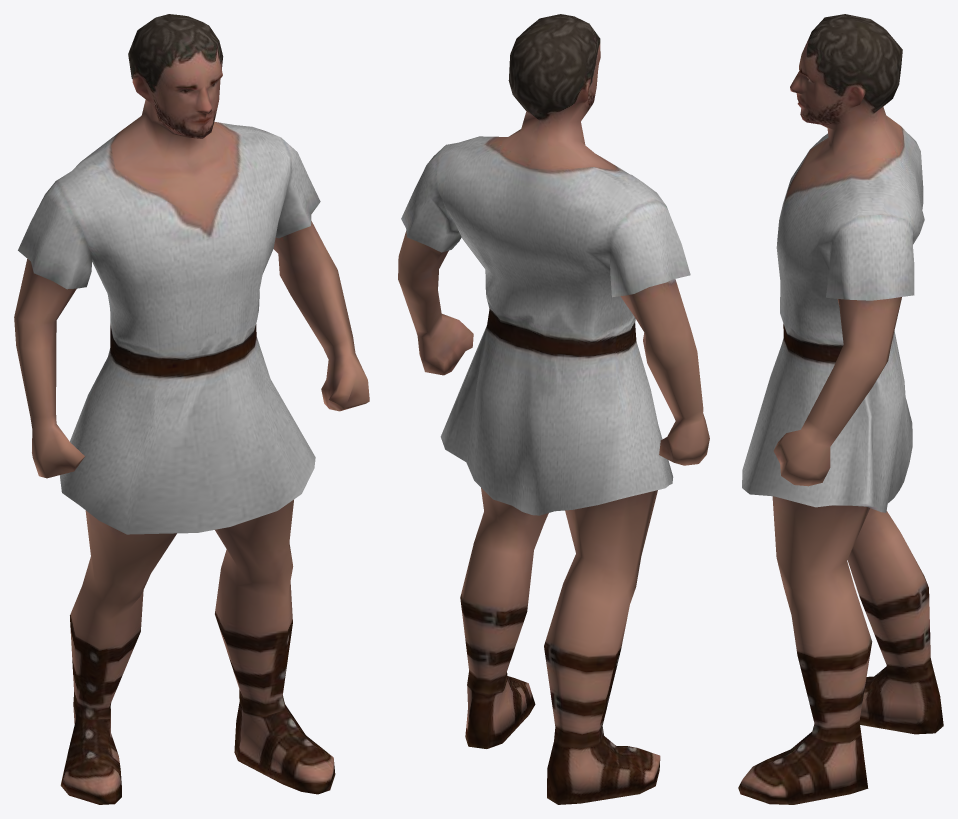
The model's file is body-base.glb.
3 renders of one model, left to right at view 1: azimuth 30°, elevation 25°; view 2: azimuth 150°, elevation 25°; view 3: azimuth 270°, elevation 25°, orthographic. The views are drawn at different scales.
Size of the model in its own units: 0.8871 by 2.06 by 0.5242.
Materials: 1 (1 with a texture image).
